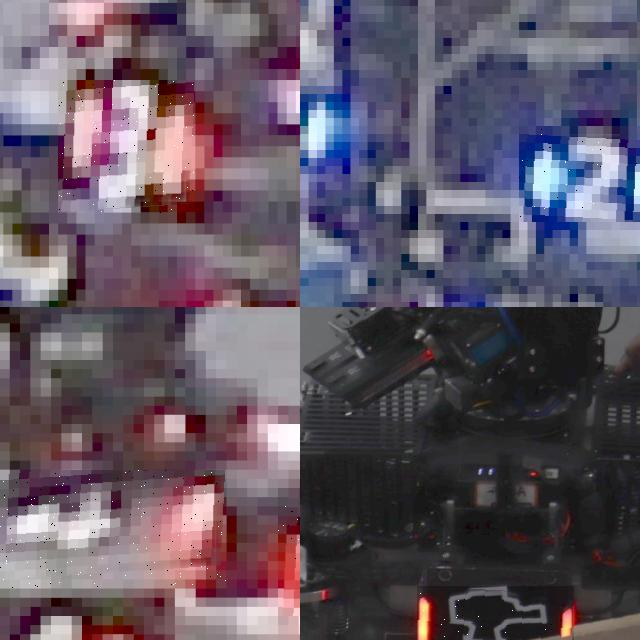B2: (519, 126, 640, 222)
R3: (58, 80, 195, 213)
R4: (0, 469, 226, 588)
Rs: (417, 586, 574, 640)
